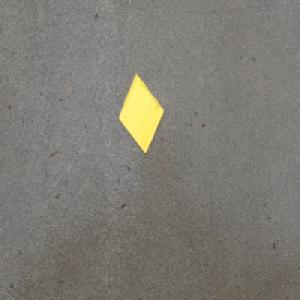PlasticPart: (118, 72, 164, 154)
